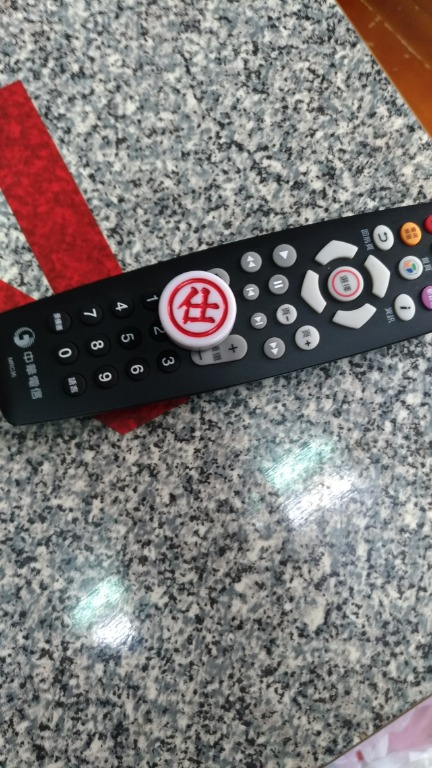r-advisor: (157, 258, 244, 356)
